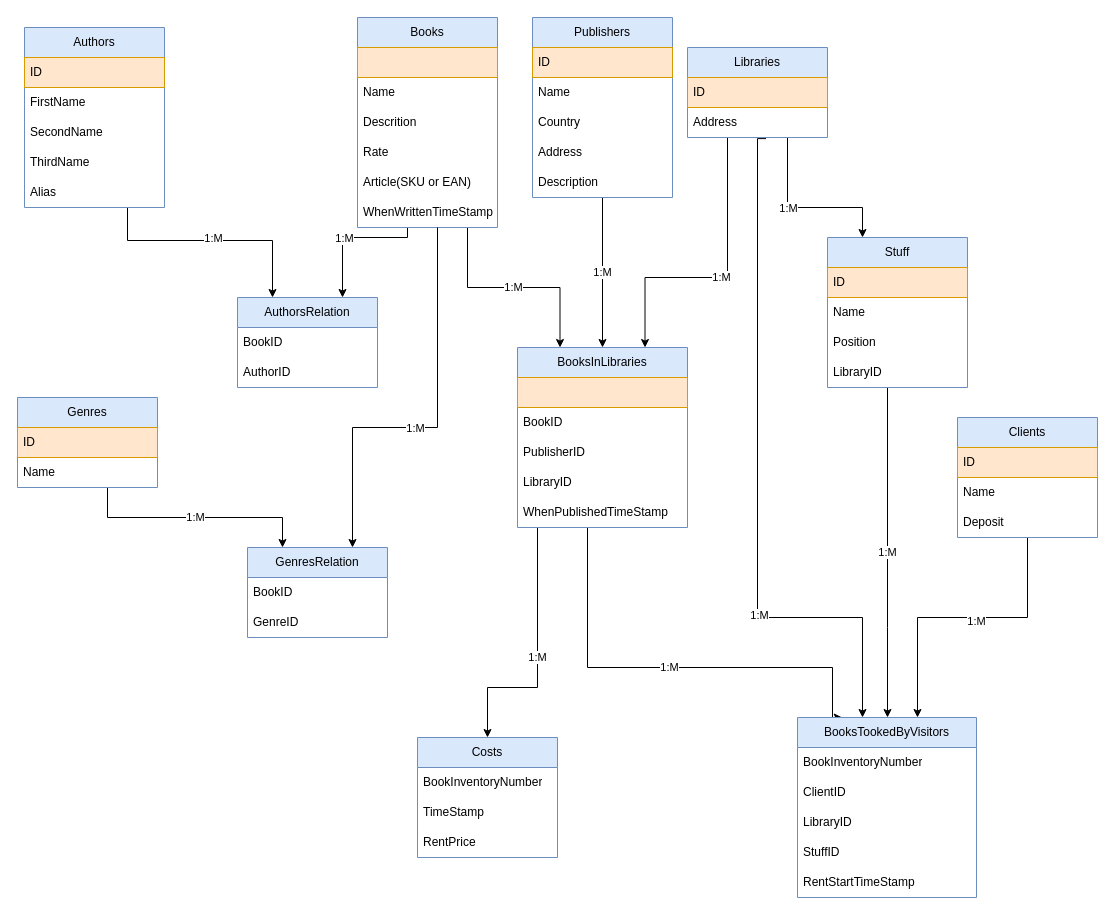
This 1115x915 diagram has some shape labels left out. The centre of each missing label's shape, as x and y in pixels:
ID(ISBN): [427,62]
InventoryNumber: [602,392]
